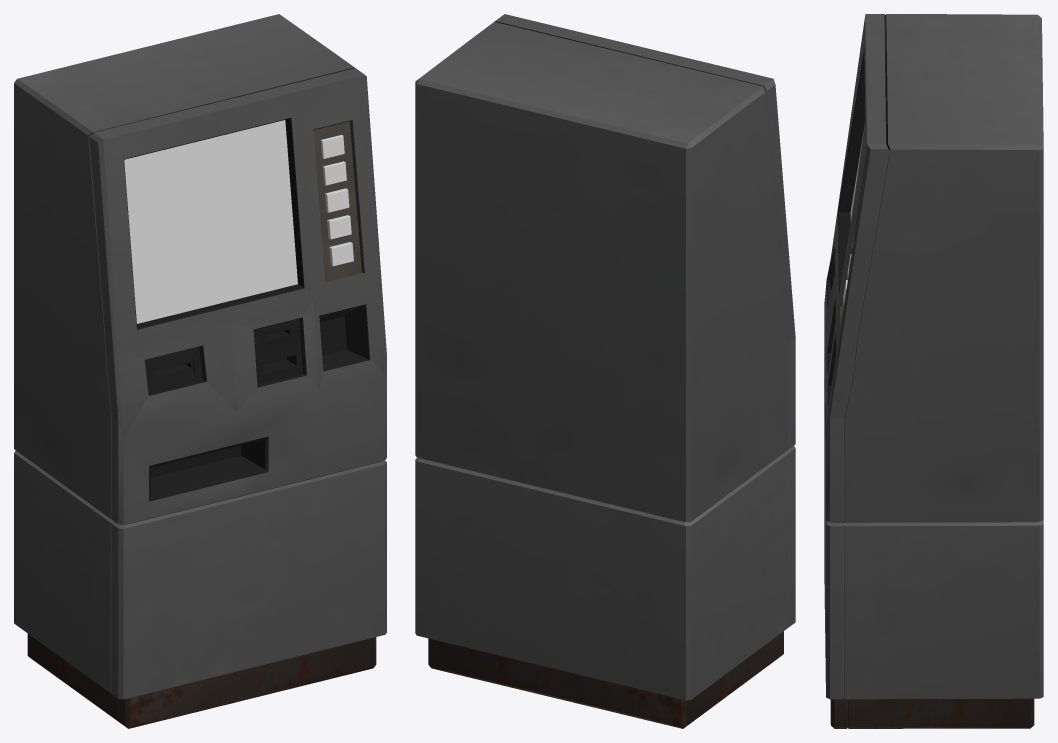
File: SM_Ticket_Machine.fbx
The picture shows the model from 3 angles, left to right: view 1: azimuth 30°, elevation 25°; view 2: azimuth 150°, elevation 25°; view 3: azimuth 270°, elevation 25°; orthographic projection. The views are drawn at different scales.
Visible parts, largest first — view 1: JP_Ticket_Machine; view 2: JP_Ticket_Machine; view 3: JP_Ticket_Machine.
Boxes of the visible parts, left/top/right/bottom form: JP_Ticket_Machine: left=14, top=14, right=386, bottom=728; JP_Ticket_Machine: left=415, top=14, right=795, bottom=728; JP_Ticket_Machine: left=824, top=14, right=1043, bottom=728.
Bounding box in the file's own units: 0.8532 × 0.5904 × 1.75.
